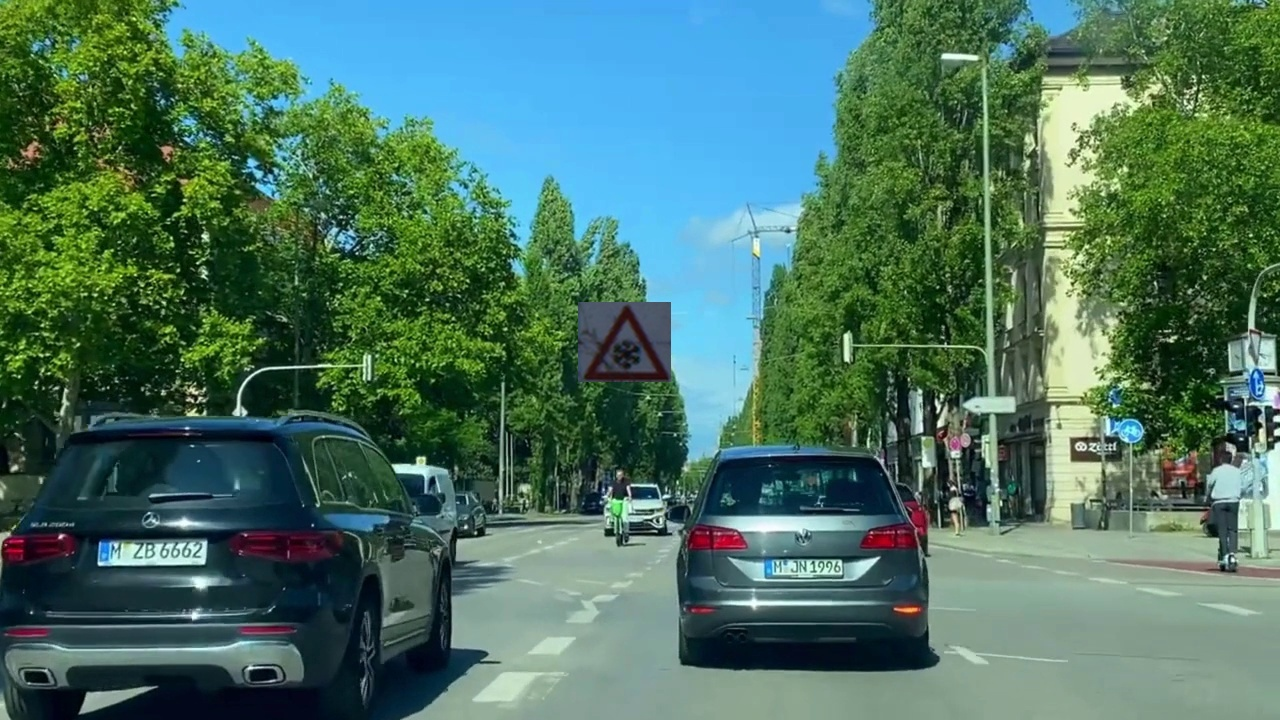Ice/snow: (578, 302, 671, 382)
